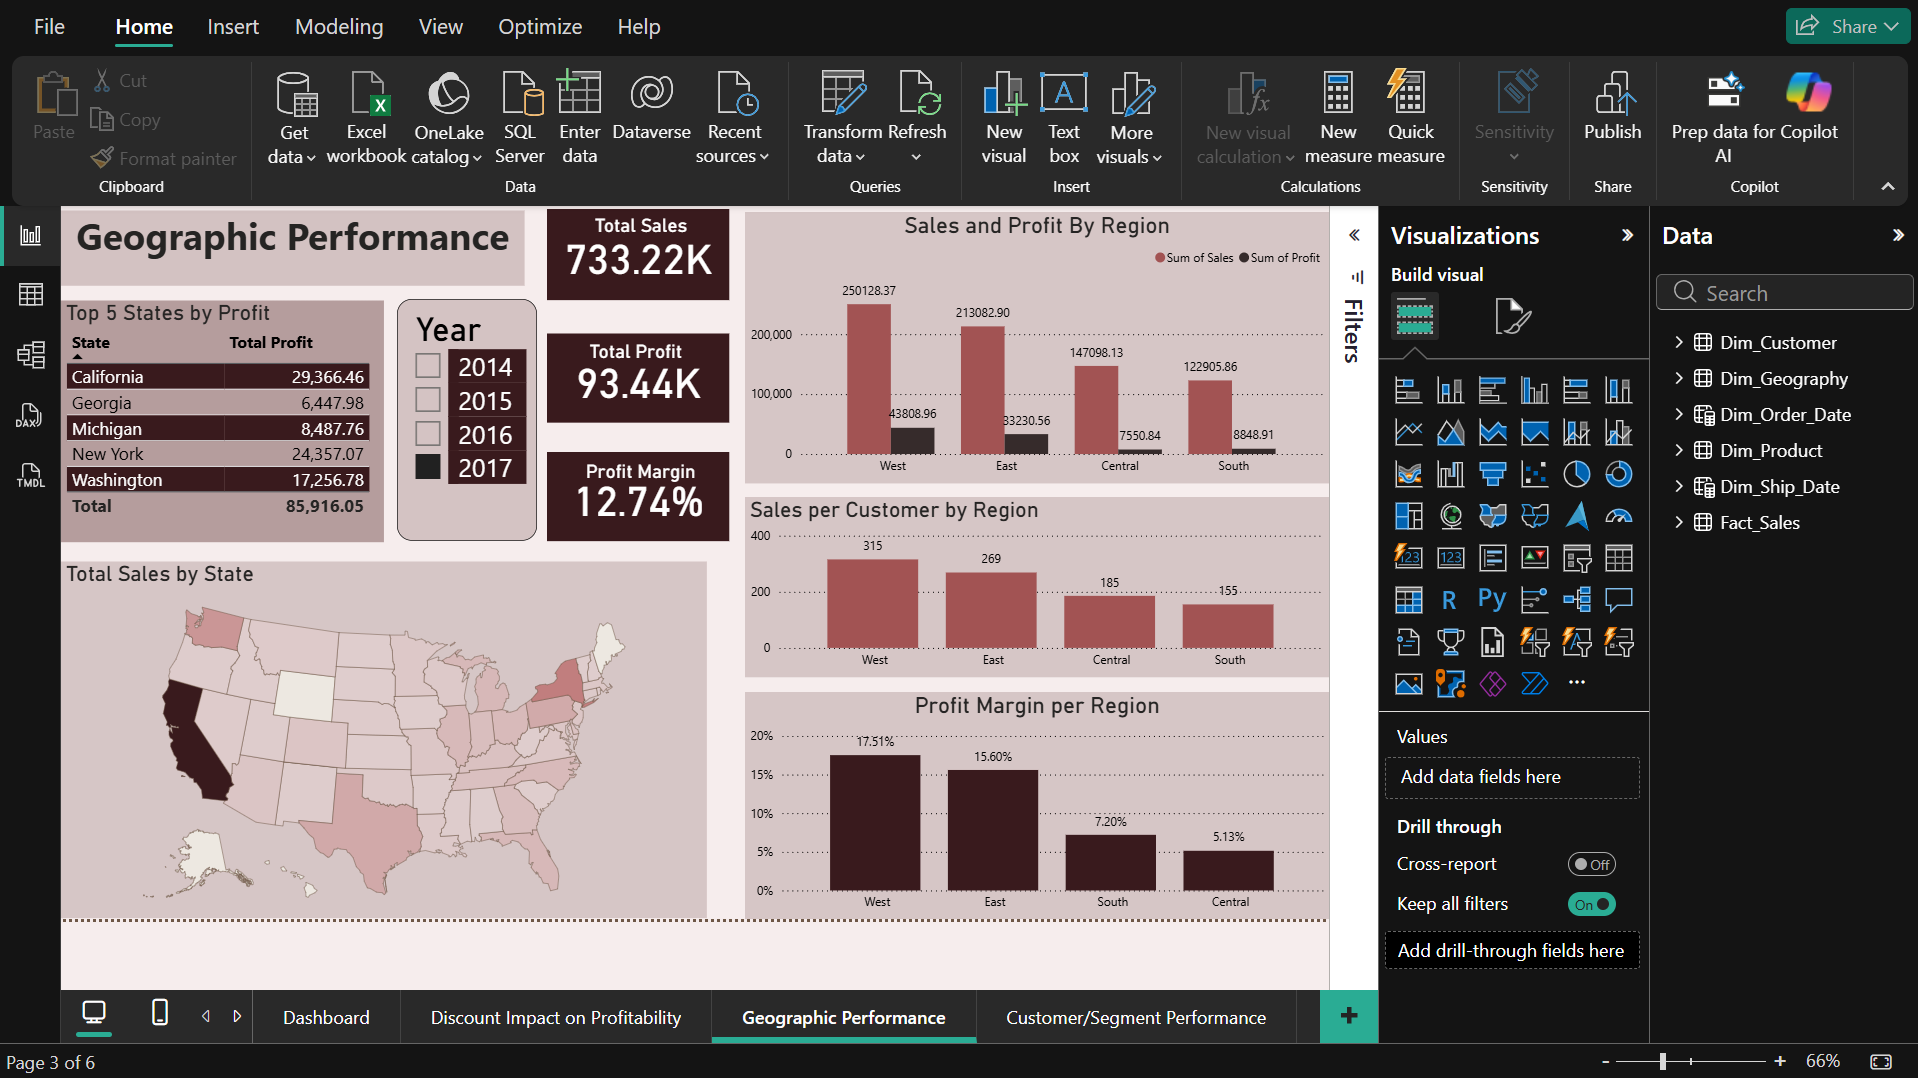

The dashboard page shown, as its layout file describes it:
{"tool":"powerbi","page":{"name":"Geographic Performance","canvas":[1280,720],"ordinal":2},"visuals":[{"type":"clusteredColumnChart","title":"Sales and Profit By Region","fields":{"Category":["Dim_Geography.Region"],"Y":["Sum(Fact_Sales.Sales)","Sum(Fact_Sales.Profit)"]},"box":[690,6,590,274],"z":0},{"type":"textbox","box":[0,4.7,468,76],"z":1000},{"type":"shapeMap","title":"Total Sales by State","fields":{"Category":["Dim_Geography.State"],"Value":["Sum(Fact_Sales.Sales)"]},"box":[0,358.7,652,360],"z":2000},{"type":"clusteredColumnChart","title":"Profit Margin per Region","fields":{"Category":["Dim_Geography.Region"],"Y":["Fact_Sales.Profit Margin Percentage"]},"box":[690,490,590,230],"z":3000},{"type":"clusteredColumnChart","fields":{"Category":["Dim_Geography.Region"],"Y":["Fact_Sales.Sales per Customer"]},"box":[690,294,590,182],"z":4000},{"type":"card","fields":{"Values":["Sum(Fact_Sales.Sales)"]},"box":[490.7,3.3,184,92],"z":5000},{"type":"textbox","box":[532.7,3.5,105,38.3],"z":6000},{"type":"card","fields":{"Values":["Sum(Fact_Sales.Profit)"]},"box":[491.3,128.7,184,90],"z":7000},{"type":"textbox","box":[529,129.8,114.2,44.2],"z":8000},{"type":"card","fields":{"Values":["Fact_Sales.Profit Margin Percentage"]},"box":[490,248,184,90],"z":9000},{"type":"textbox","box":[519.3,251.8,131.7,43.3],"z":10000},{"type":"tableEx","title":"Top 5 States by Profit","fields":{"Values":["Dim_Geography.State","Fact_Sales.Total Profit"]},"box":[0,94.7,326,244],"z":11000},{"type":"slicer","fields":{"Values":["Dim_Order_Date.Year"]},"box":[338.5,94.6,141.5,243.8],"z":12000}]}

Visuals, with their boxes on the page's 1280x720 design canvas (x1, y1, x2, y2). These are canvas units, not pixel positions in the 1918x1078 screenshot, which may show the page scaled, cropped or inside an application window:
"Sales and Profit By Region" clusteredColumnChart: region(690, 6, 1280, 280)
textbox: region(0, 5, 468, 81)
"Total Sales by State" shapeMap: region(0, 359, 652, 719)
"Profit Margin per Region" clusteredColumnChart: region(690, 490, 1280, 720)
clusteredColumnChart - Dim_Geography.Region x Fact_Sales.Sales per Customer: region(690, 294, 1280, 476)
card - Sum(Fact_Sales.Sales): region(491, 3, 675, 95)
textbox: region(533, 4, 638, 42)
card - Sum(Fact_Sales.Profit): region(491, 129, 675, 219)
textbox: region(529, 130, 643, 174)
card - Fact_Sales.Profit Margin Percentage: region(490, 248, 674, 338)
textbox: region(519, 252, 651, 295)
"Top 5 States by Profit" tableEx: region(0, 95, 326, 339)
slicer - Dim_Order_Date.Year: region(338, 95, 480, 338)
